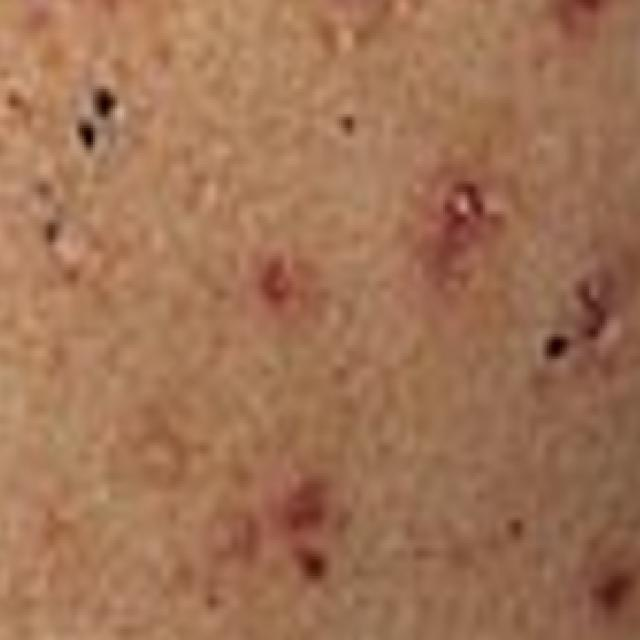blackhead: (92, 88, 115, 116), (338, 109, 358, 137), (544, 336, 568, 359), (77, 120, 96, 149), (6, 88, 22, 110), (44, 220, 58, 244), (36, 180, 52, 199), (508, 519, 522, 538)
